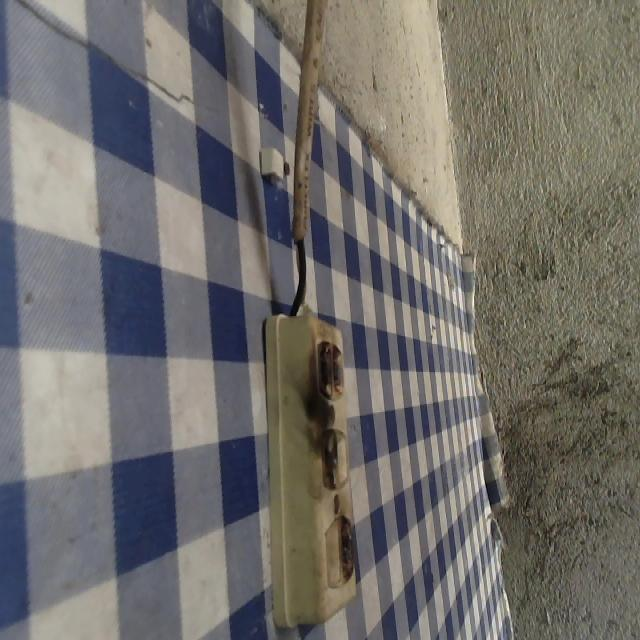-: (308, 334, 349, 406), (335, 505, 363, 584), (317, 417, 340, 492)
